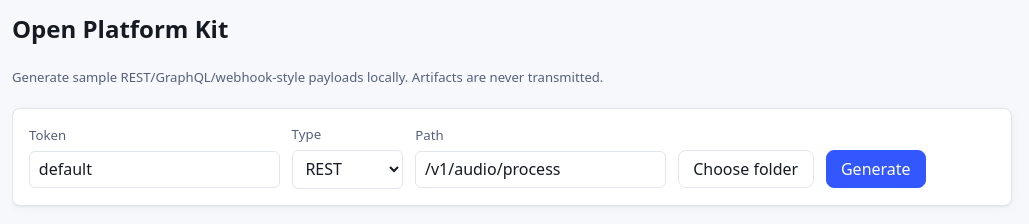
IntegrationPanel component › switches Path -> Event when the type is set to webhook
Select "Webhook" in the dropdown. click: x=347, y=169
box: [292,150,403,189]
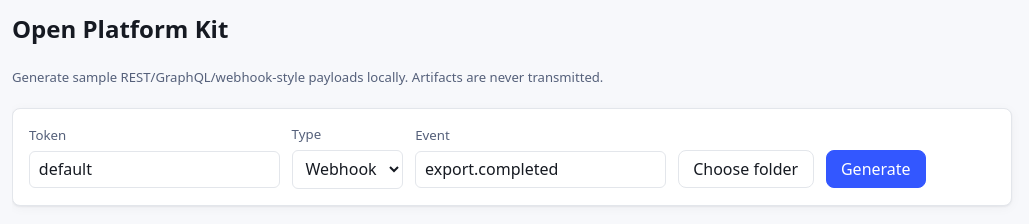
Expected: the text "Event" is shown, [415,126,450,144]
Expected: the text "Path" is gone
